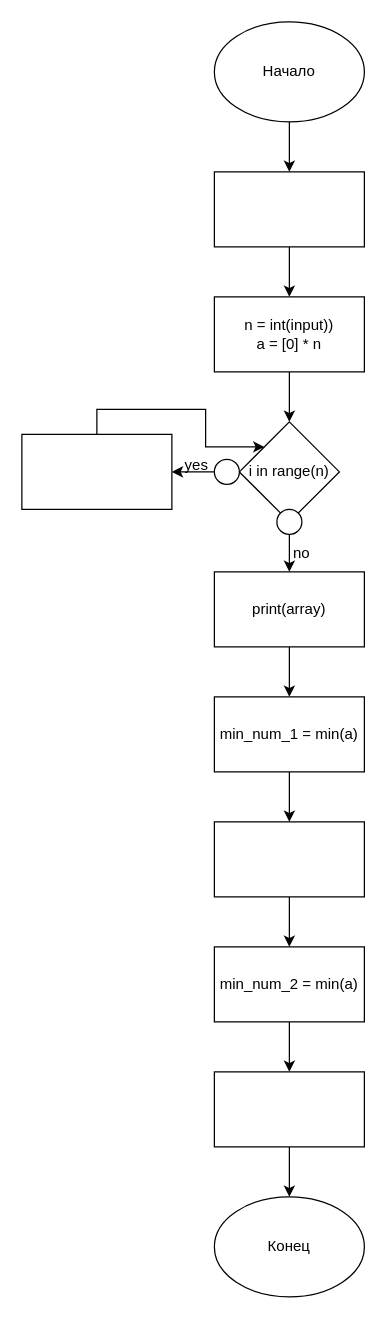
This 386x1319 diagram has some shape labels left out. Each missing label, with the box of its shape:
a.remove(min_num_1): (213, 821, 364, 897)
a[i]=int(random()*21): (21, 433, 172, 509)
from random import random: (213, 171, 364, 247)
print(min_num_1, min_num_2): (213, 1071, 364, 1147)
